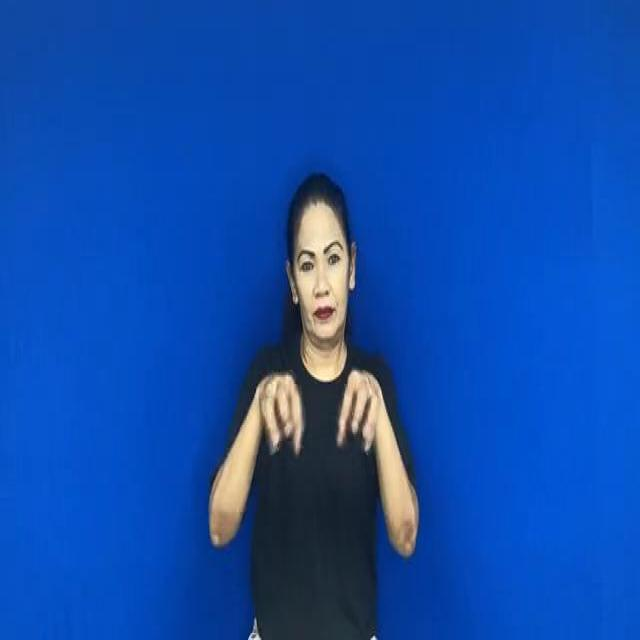egg: (243, 346, 387, 469)
